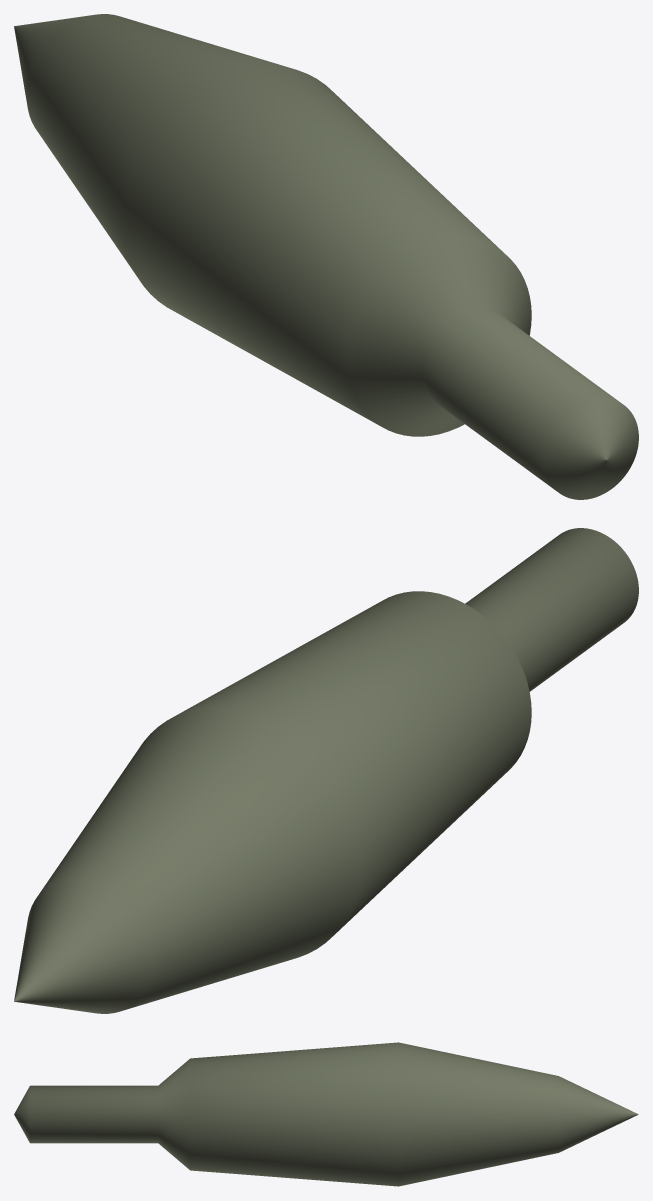
Rendered from rocket.glb.
3 renders of one model, top to bottom at view 1: azimuth 30°, elevation 25°; view 2: azimuth 150°, elevation 25°; view 3: azimuth 270°, elevation 25°, orthographic. The views are drawn at different scales.
Parts seen in each view (by area): view 1: LoadedRocket; view 2: LoadedRocket; view 3: LoadedRocket.
Boxes of the visible parts, x1=… form: LoadedRocket: x1=14, y1=14, x2=638, y2=499; LoadedRocket: x1=14, y1=528, x2=638, y2=1013; LoadedRocket: x1=14, y1=1042, x2=638, y2=1186.
Size of the model in its own units: 0.09 by 0.09 by 0.39.
